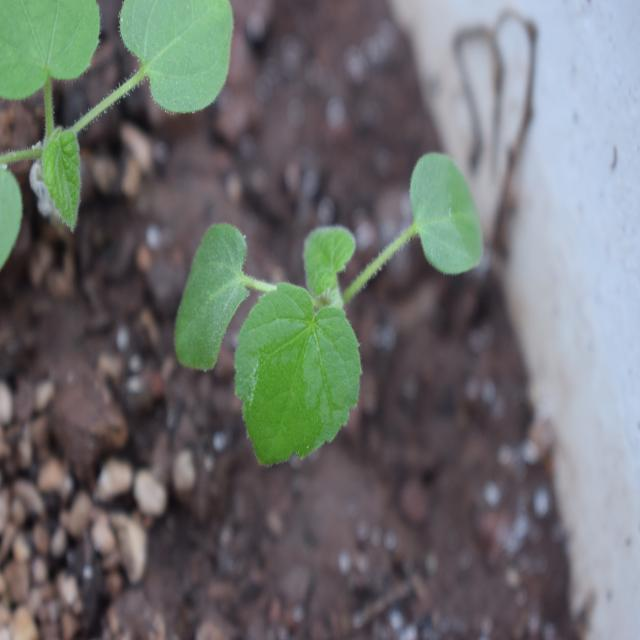abutilon theophrasti: (174, 138, 492, 472)
